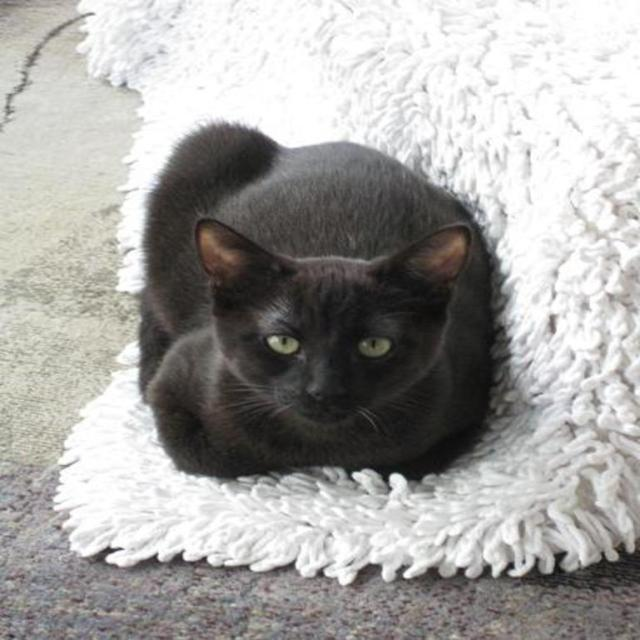Cat: (133, 112, 497, 475)
